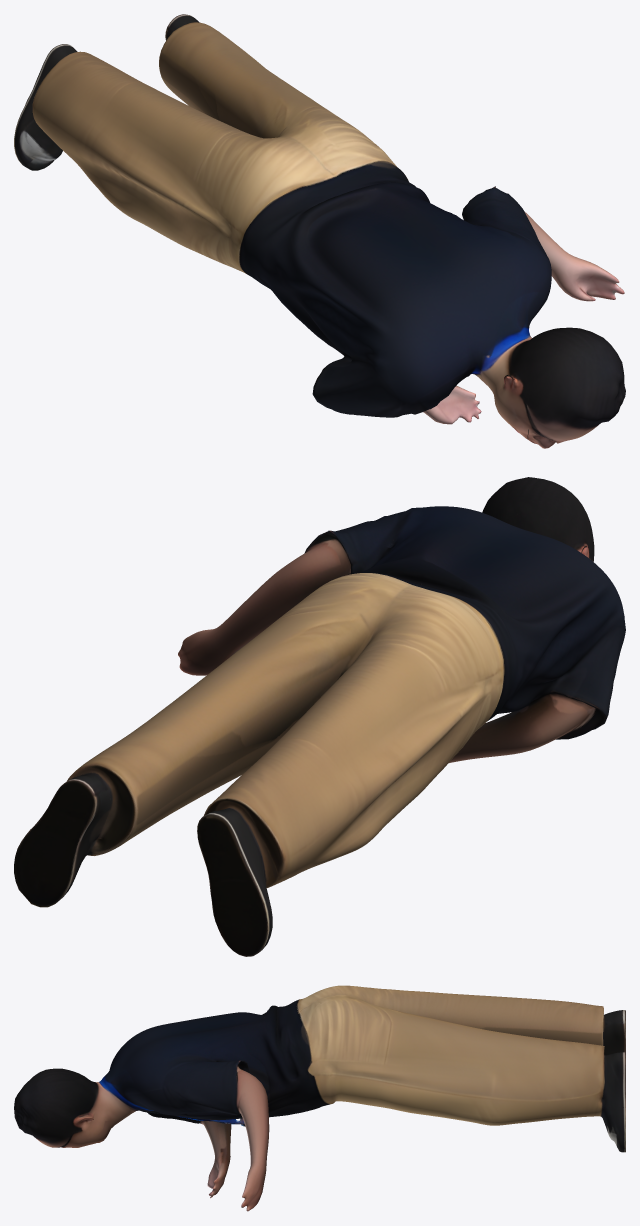
Rendered from Woojae1.obj.
The picture shows the model from 3 angles, top to bottom: view 1: azimuth 30°, elevation 25°; view 2: azimuth 150°, elevation 25°; view 3: azimuth 270°, elevation 25°; orthographic projection. The views are drawn at different scales.
Visible parts, largest first — view 1: model; view 2: model; view 3: model.
Part boxes in pixels (x1,y1,x2,y2): model: (14,14,625,448); model: (14,477,625,956); model: (14,985,625,1211).
Bounding box in the file's own units: 0.8214 × 0.5445 × 1.72.
1 material, 1 textured.
